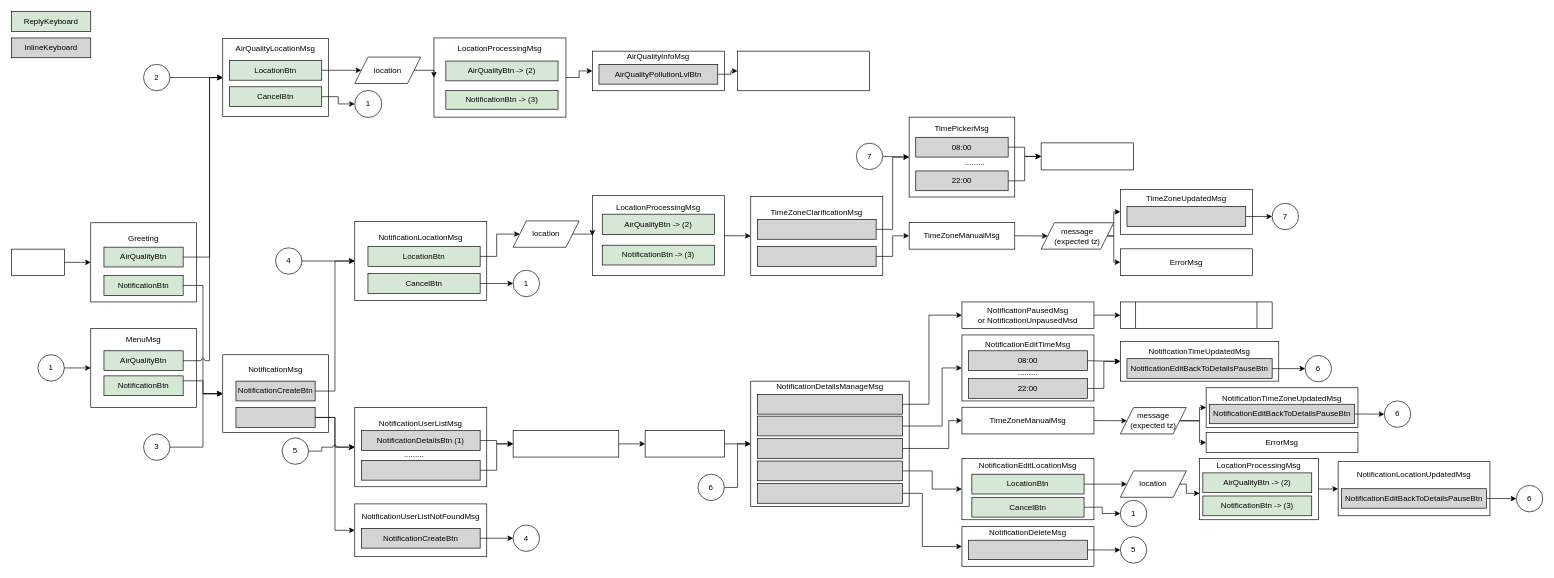
The diagram is 1554 pixels wide and 578 high, and some of its shapes have lost their labels. Here are the shapes that lost their labels. From the top down, the centre of each, then its label:
At (803,70): "AirQualityPollutionLvlMsg (+img)".
At (1087,156): "NotificationCreatedMsg".
At (816,229): "TimeZoneRightBtn".
At (1186,216): "ContinueBtn".
At (37,262): "/start".
At (816,256): "TimeZoneWrongBtn".
At (1196,314): "Edit previous message keyboard (paused or unpaused)".
At (275,417): "NotificationViewMsg".
At (830,404): "NotificationDetailsPauseBtn or NotificationDetailsUnpauseBtn".
At (565,443): "NotificationDetailsMsg".
At (684,443): "Notification location".
At (830,425): "NotificationDetailsEditTimeBtn".
At (830,448): "NotificationDetailsEditTimeZoneBtn".
At (420,470): "NotificationDetailsBtn (n)".
At (830,470): "NotificationDetailsEditLocationBtn".
At (830,493): "NotificationDetailsDeleteBtn".
At (1027,550): "NotificationBackToListBtn".
